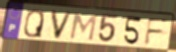5: (97, 13, 120, 44), (123, 15, 143, 45)
F: (143, 18, 171, 47)
M: (68, 12, 99, 43)
Q: (23, 9, 46, 39)
V: (49, 9, 74, 42)
